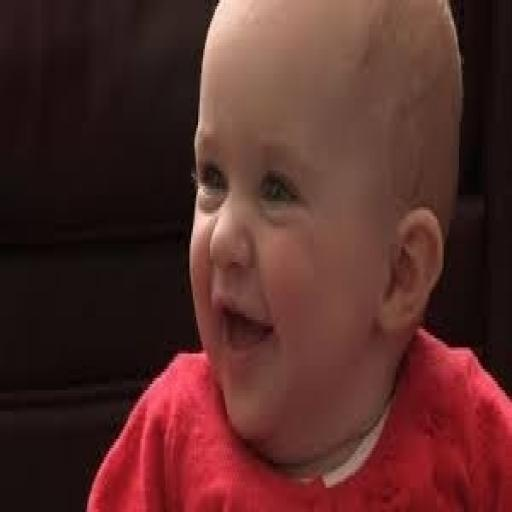laughing: (80, 3, 507, 503)
